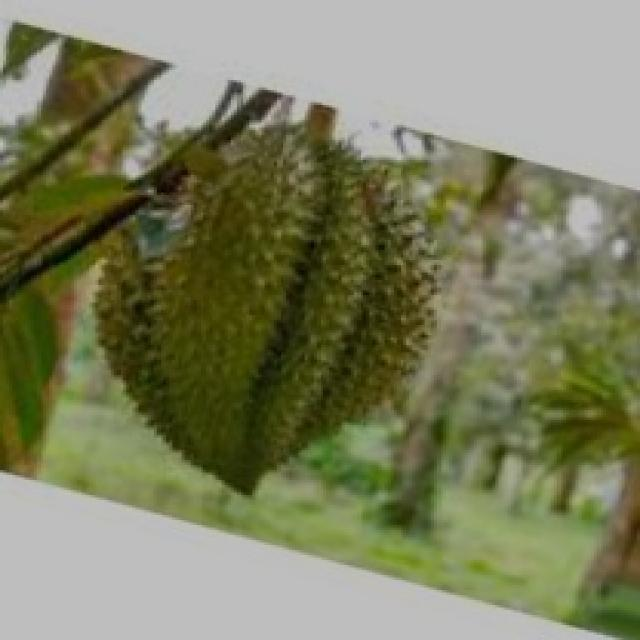fruit: (56, 100, 490, 525)
